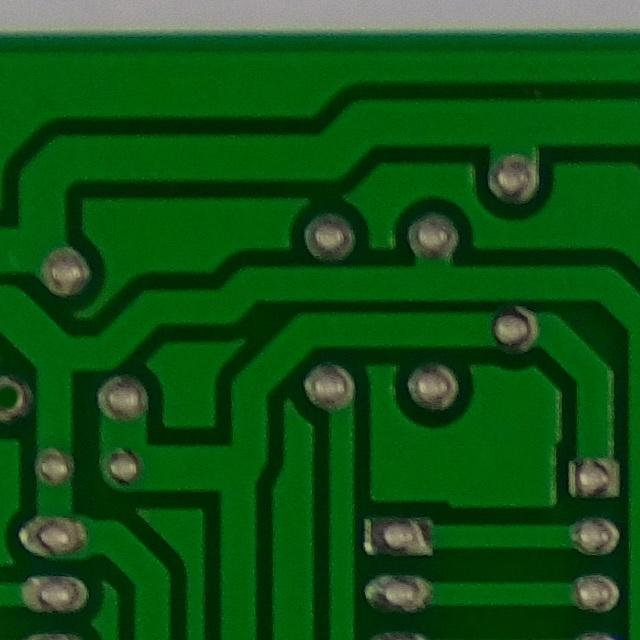missing_hole: (0, 370, 34, 429)
